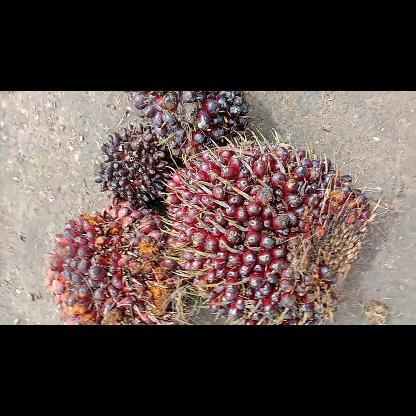Kurang masak: (160, 140, 372, 324), (125, 90, 253, 154)
TBS abnormal: (91, 119, 181, 205)
TBS masak: (41, 206, 179, 324)
